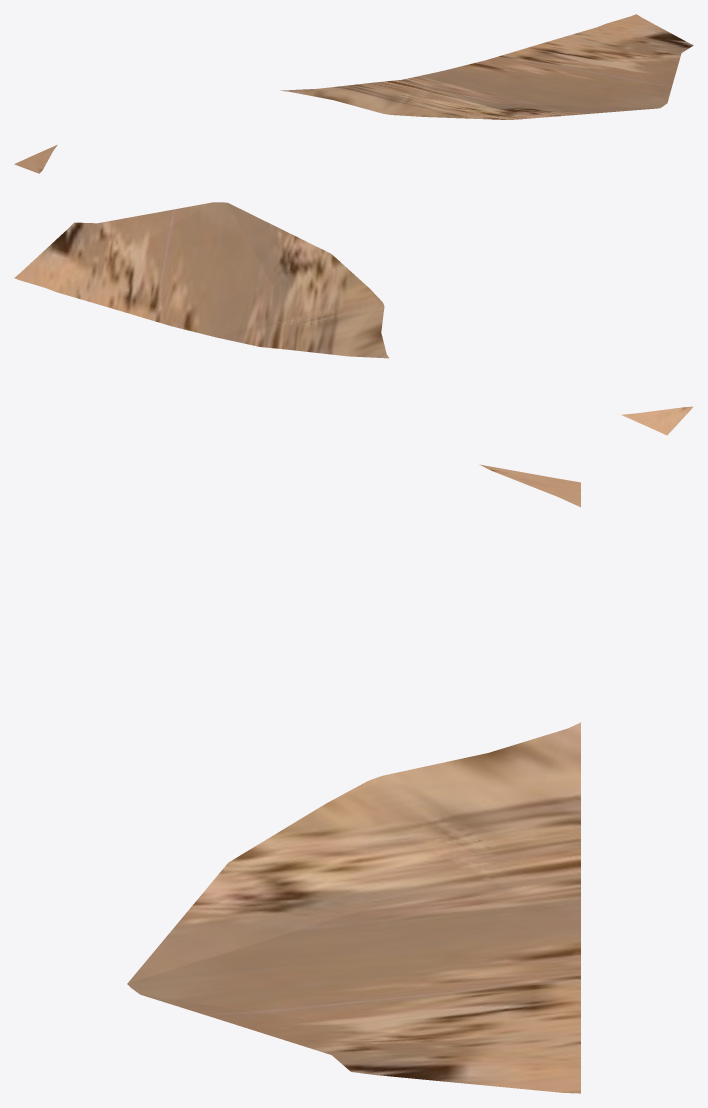
3 renders of one model, top to bottom at view 1: azimuth 30°, elevation 25°; view 2: azimuth 150°, elevation 25°; view 3: azimuth 270°, elevation 25°, orthographic. The views are drawn at different scales.
Bounding box in the file's own units: 1.04 × 0.0327 × 0.3298.
1 material, 1 textured.
